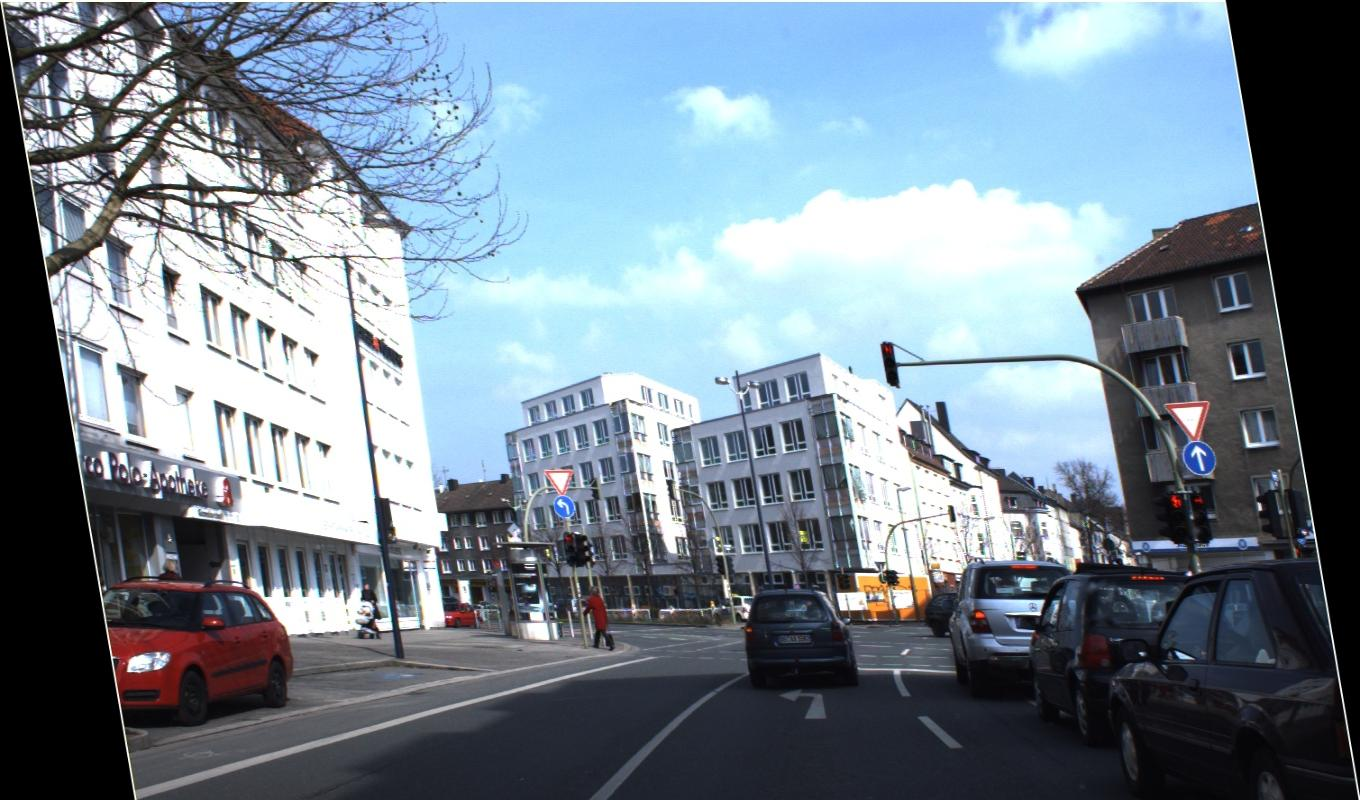give way: (541, 399, 1217, 518)
